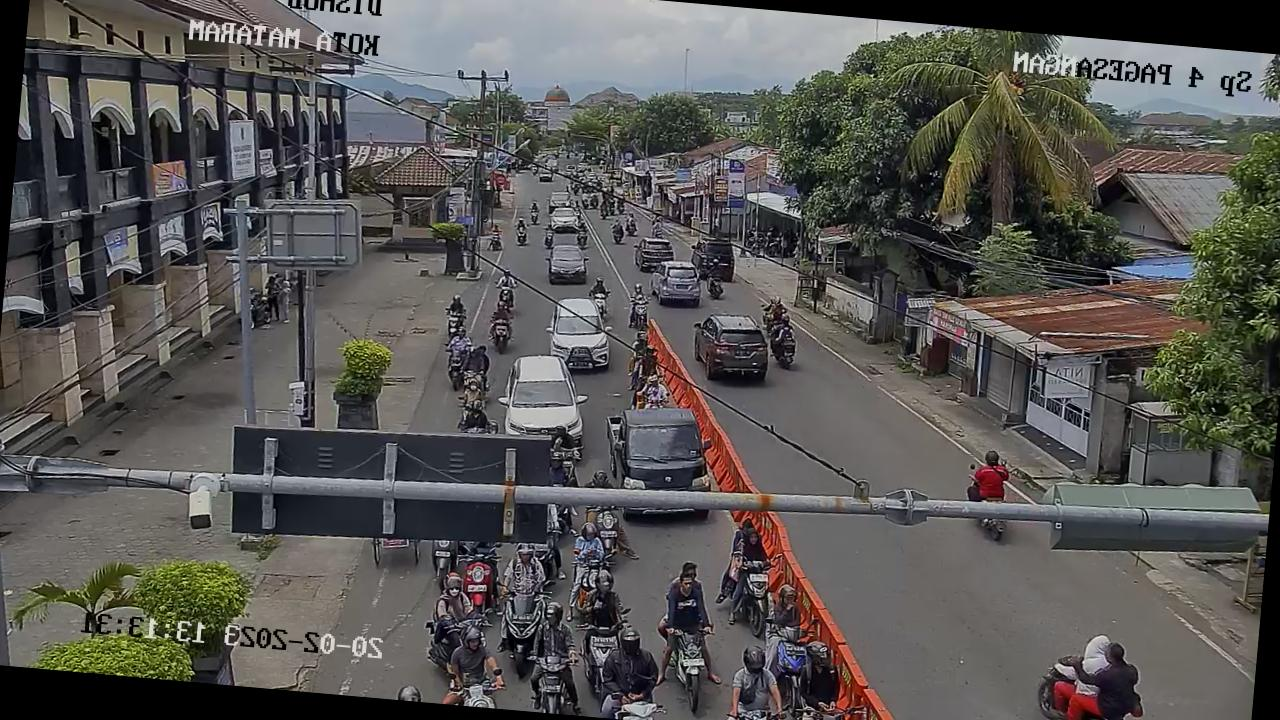car: (614, 404, 710, 494), (491, 354, 585, 442), (688, 312, 774, 388), (544, 292, 616, 375), (654, 262, 706, 309), (687, 236, 736, 284), (541, 246, 587, 288), (634, 234, 676, 275)
motorcycle: (490, 576, 558, 682), (658, 623, 720, 718), (760, 614, 821, 710), (726, 548, 786, 638), (578, 604, 630, 696), (521, 649, 581, 716), (456, 538, 506, 616), (587, 501, 630, 559), (424, 536, 464, 586), (487, 314, 516, 356), (442, 349, 468, 391), (442, 308, 469, 342), (626, 296, 652, 330), (493, 280, 518, 307), (592, 290, 612, 317), (512, 224, 531, 245), (488, 234, 506, 254), (622, 220, 640, 238), (542, 230, 558, 250), (574, 231, 590, 250), (528, 207, 542, 226), (611, 229, 625, 246)
person: (1072, 626, 1144, 718), (598, 618, 666, 704), (726, 639, 790, 719), (444, 620, 504, 693), (794, 638, 851, 710), (663, 558, 716, 631), (528, 598, 578, 668), (501, 536, 551, 601), (584, 567, 634, 628), (431, 566, 479, 626), (732, 512, 778, 565), (766, 579, 811, 633), (968, 448, 1016, 498), (572, 518, 610, 566), (544, 446, 578, 490), (636, 338, 666, 378), (767, 306, 796, 347), (638, 368, 670, 404), (461, 339, 490, 376), (548, 203, 580, 236), (630, 328, 656, 362), (763, 292, 791, 323), (461, 376, 488, 405), (450, 324, 474, 355), (444, 290, 470, 316), (488, 299, 516, 323), (706, 256, 728, 284), (590, 274, 612, 296), (630, 280, 650, 304), (496, 268, 519, 288), (608, 216, 626, 236), (486, 221, 504, 240), (573, 218, 591, 236), (526, 199, 542, 216), (542, 220, 556, 236), (626, 211, 640, 226), (514, 216, 528, 231)
